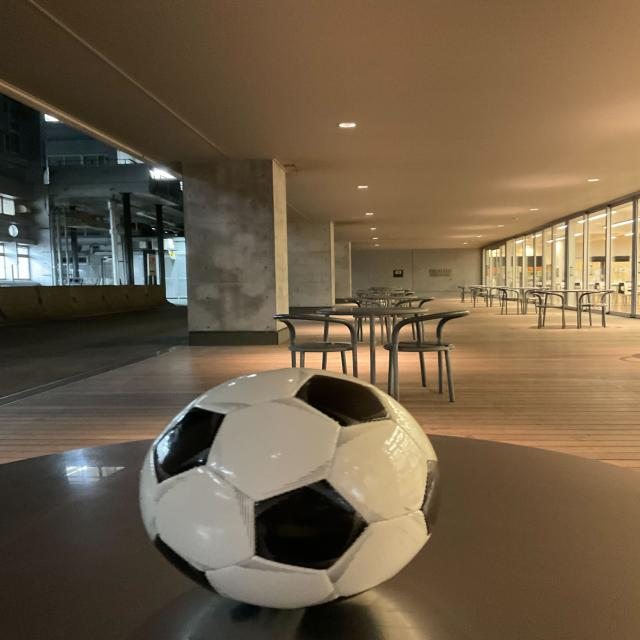ball: (145, 368, 445, 610)
